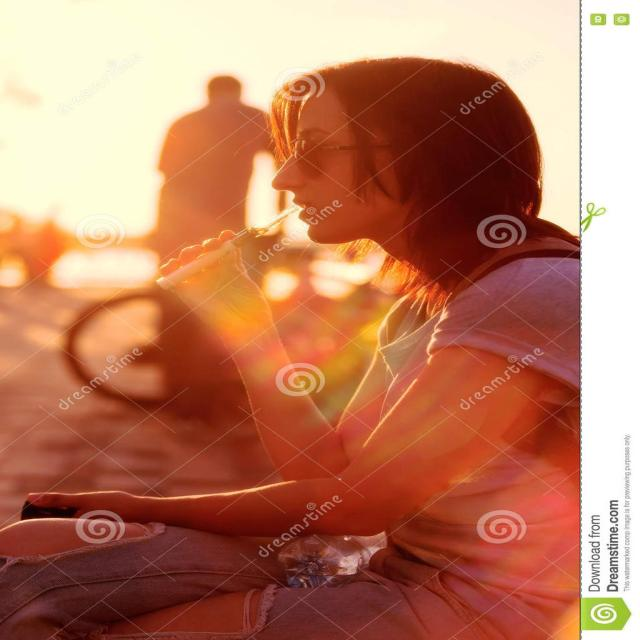smoking: (105, 62, 524, 312)
